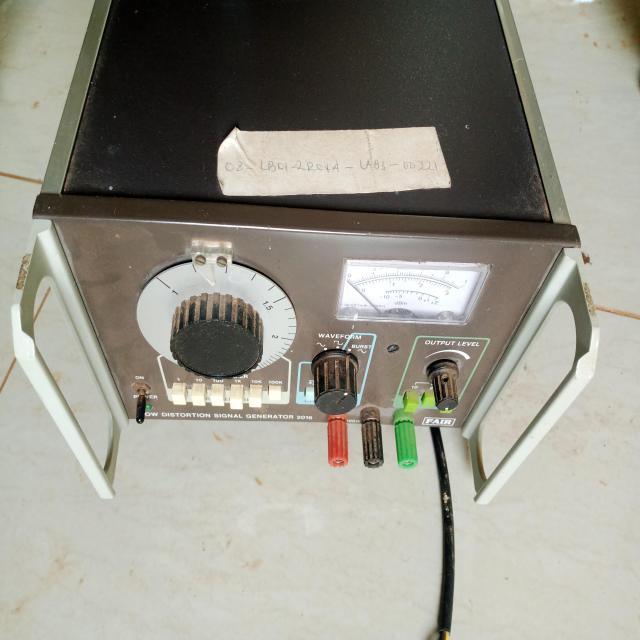Low Distortion Signal Generator: (9, 7, 606, 536)
